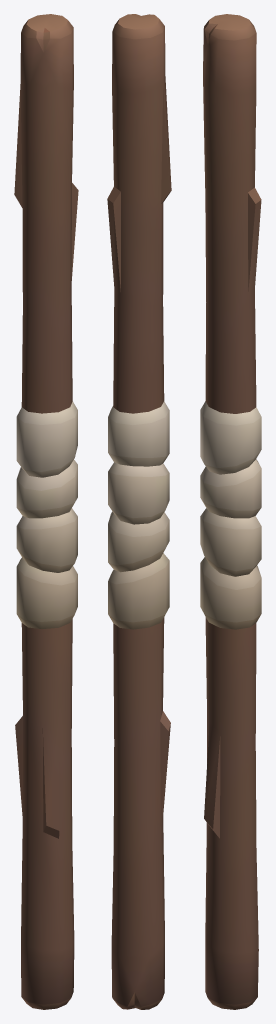
The model's file is staff_a.b7328786.glb.
The picture shows the model from 3 angles, left to right: view 1: azimuth 30°, elevation 25°; view 2: azimuth 210°, elevation 25°; view 3: azimuth 330°, elevation 25°; orthographic projection.
Visible parts, largest first — view 1: staff_A; view 2: staff_A; view 3: staff_A.
Boxes of the visible parts, x1,y1,x2,y2 form: staff_A: [14, 14, 78, 1009]; staff_A: [107, 14, 171, 1009]; staff_A: [200, 14, 261, 1009].
Bounding box in the file's own units: 0.1249 × 2.15 × 0.1115.
Materials: 1 (1 with a texture image).
